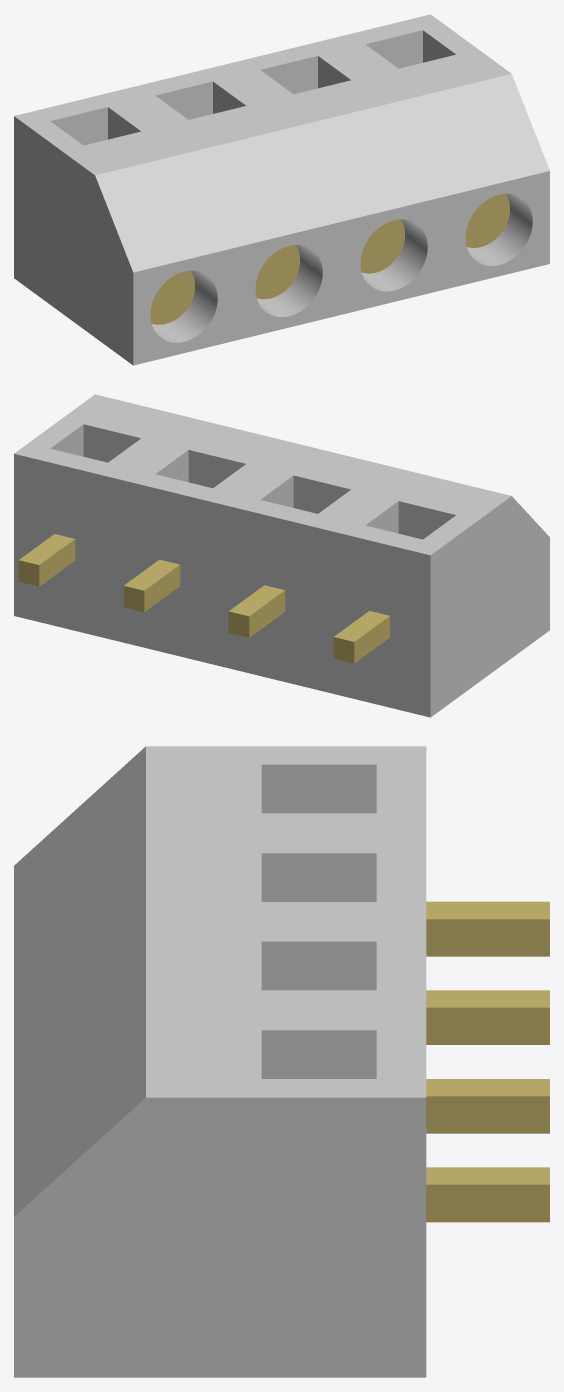
Rendered from screw_terminal_5_08_4pin.glb.
The picture shows the model from 3 angles, top to bottom: view 1: azimuth 30°, elevation 25°; view 2: azimuth 150°, elevation 25°; view 3: azimuth 270°, elevation 25°; orthographic projection. The views are drawn at different scales.
Parts seen in each view (by area): view 1: world; view 2: world; view 3: world.
Boxes of the visible parts, <box> form: world: <box>14,14,549,365</box>; world: <box>14,394,549,717</box>; world: <box>14,746,549,1377</box>.
Size of the model in its own units: 20.16 by 7.5 by 13.
